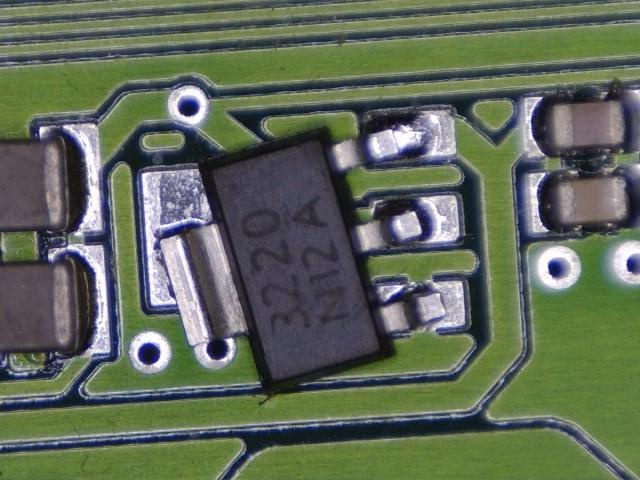pcb_defect: (140, 107, 467, 393), (142, 169, 249, 370)
